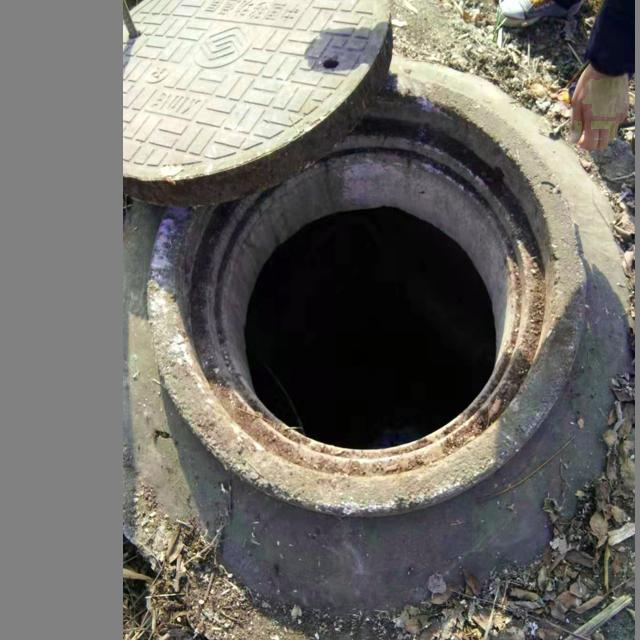uncovered: (126, 0, 588, 512)
